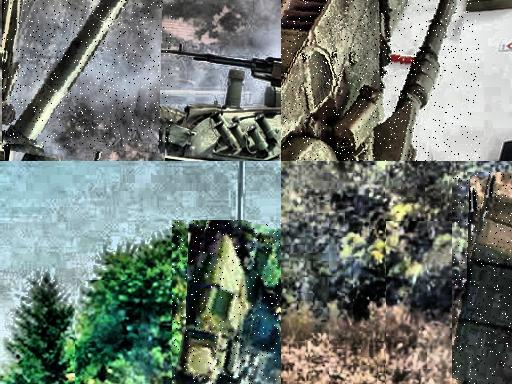tanks: (282, 1, 460, 162), (3, 1, 128, 148), (175, 222, 282, 384), (454, 173, 512, 384), (5, 1, 26, 162)
